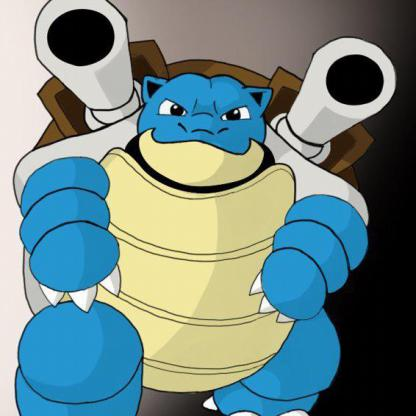Blastoise: (1, 63, 416, 393)
